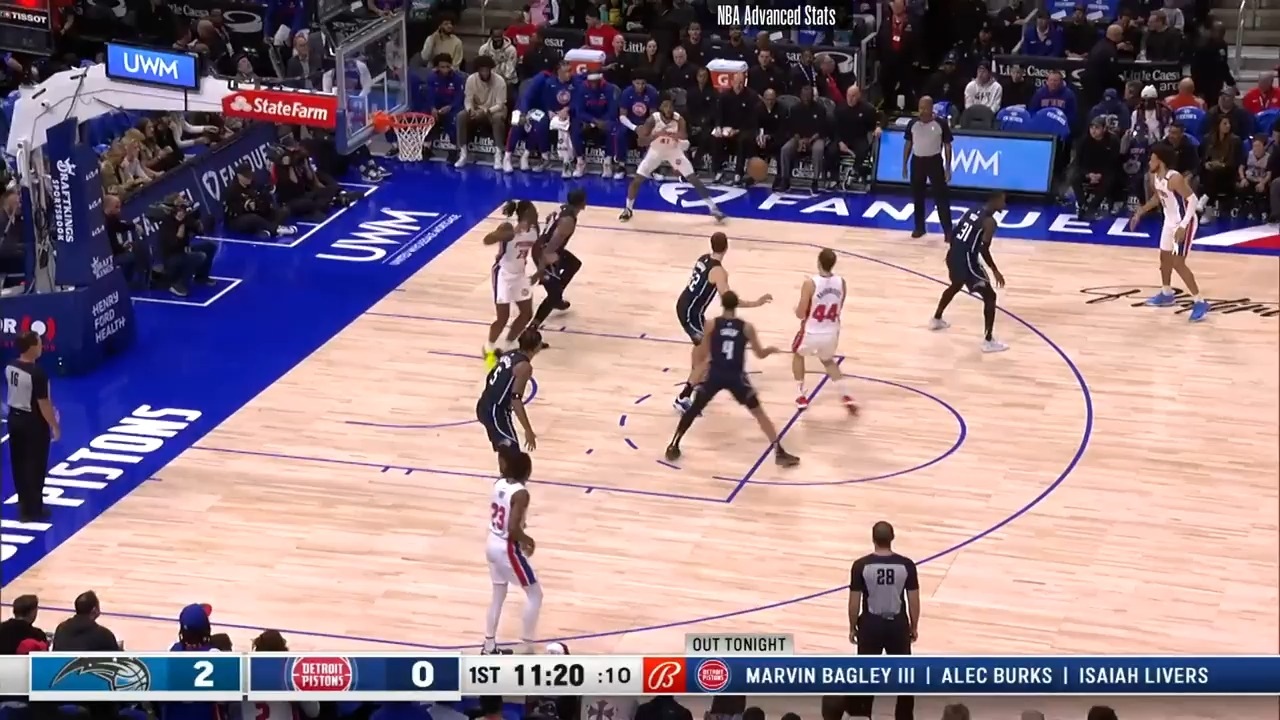net: (368, 104, 435, 162)
player: (661, 288, 796, 471), (622, 100, 735, 232), (475, 452, 545, 658), (934, 187, 1022, 349), (672, 231, 743, 420), (786, 243, 863, 417), (473, 323, 555, 482), (473, 200, 544, 368), (1132, 149, 1200, 322), (530, 189, 593, 348)
referee: (4, 329, 61, 526), (846, 517, 925, 656), (897, 96, 953, 245)
